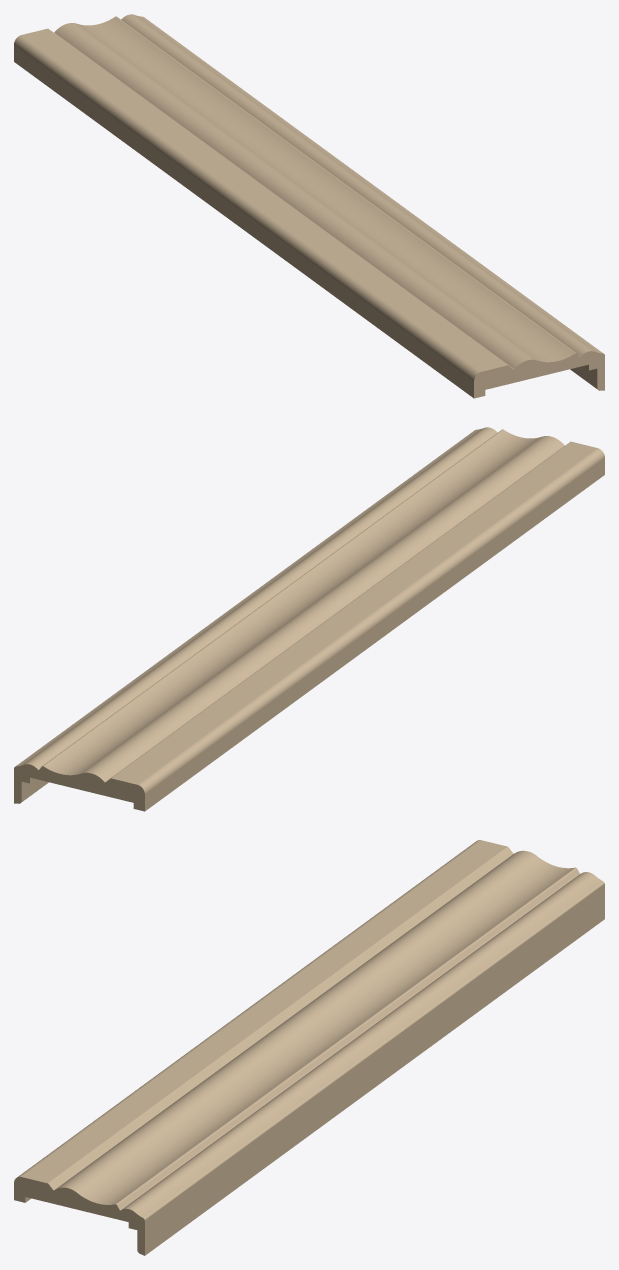
The model's file is scorn-coprifilo-sagomato_24,5x69.glb.
The picture shows the model from 3 angles, top to bottom: view 1: azimuth 30°, elevation 25°; view 2: azimuth 150°, elevation 25°; view 3: azimuth 330°, elevation 25°; orthographic projection.
Visible parts, largest first — view 1: SCORN-COPRIFILO-SAGOMATO_24,5X69; view 2: SCORN-COPRIFILO-SAGOMATO_24,5X69; view 3: SCORN-COPRIFILO-SAGOMATO_24,5X69.
Boxes of the visible parts, x1,y1,x2,y2 form: SCORN-COPRIFILO-SAGOMATO_24,5X69: (14,14,604,398); SCORN-COPRIFILO-SAGOMATO_24,5X69: (14,427,604,811); SCORN-COPRIFILO-SAGOMATO_24,5X69: (14,840,604,1255).
Bounding box in the file's own units: 69 × 24.69 × 420.
